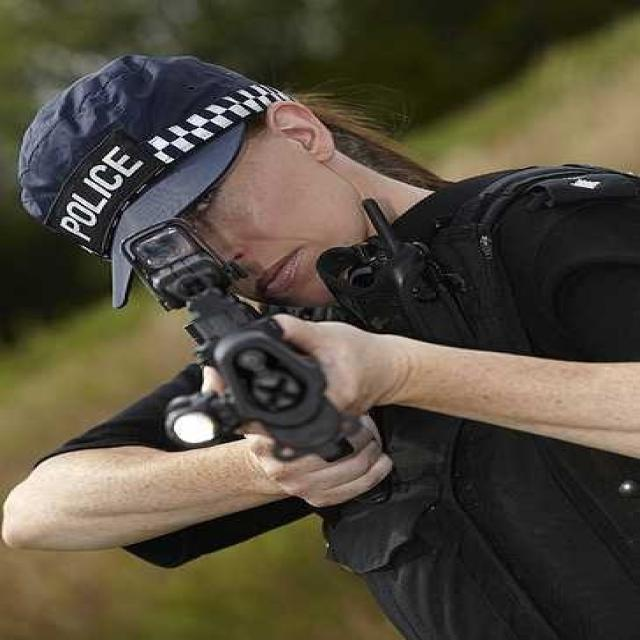heavyweapon: (61, 224, 386, 489)
